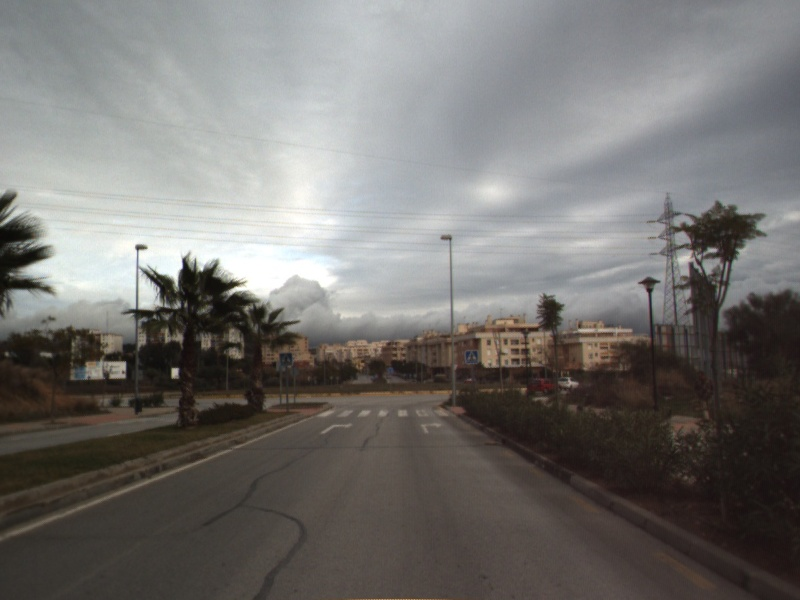RIGHT: (318, 421, 355, 436), (419, 420, 444, 435)
